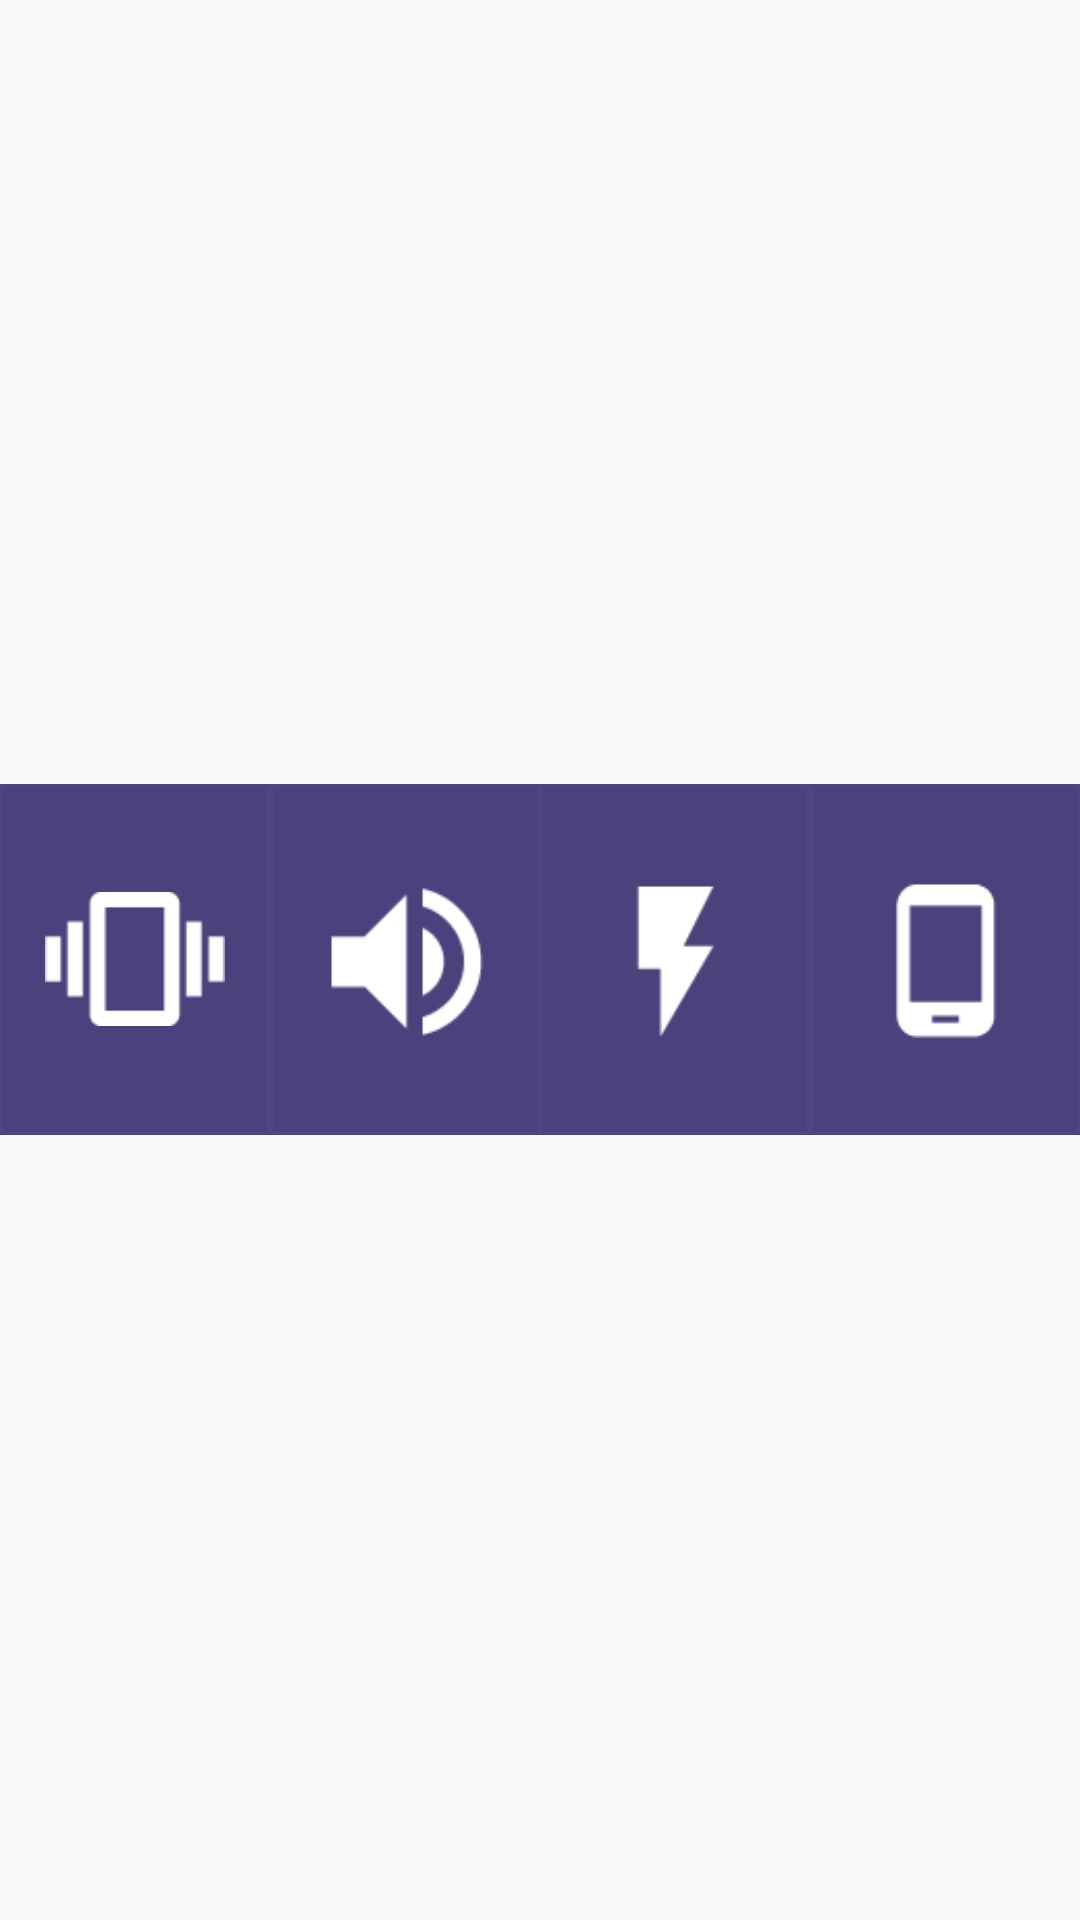

Screen size 1080 × 1920. Icon name, then its box in pixels as (x1, y1, x2, y2):
flashlight on: (637, 886, 714, 1036)
screen on: (896, 884, 995, 1038)
sound on: (331, 888, 482, 1036)
vibration on: (45, 892, 225, 1026)
